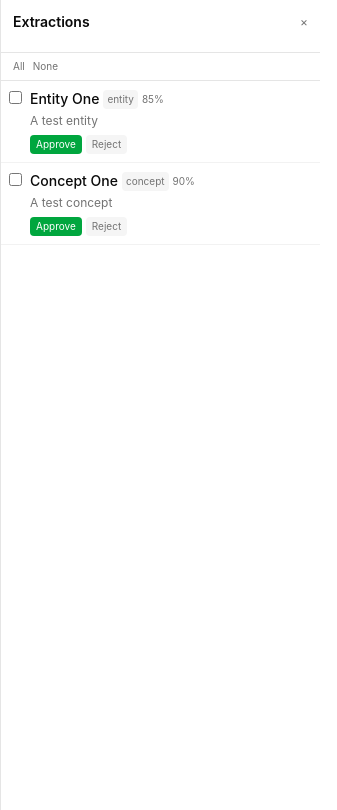
ExtractionReview › clears selection
Click the button "All": click(19, 66) [13, 59, 25, 74]
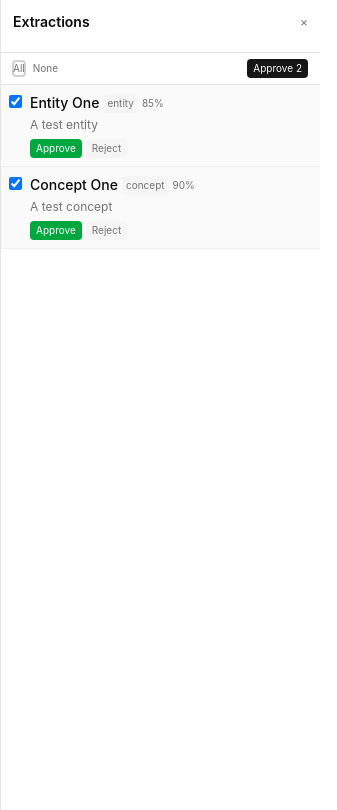
Click the button "None": click(45, 68) [33, 61, 58, 76]
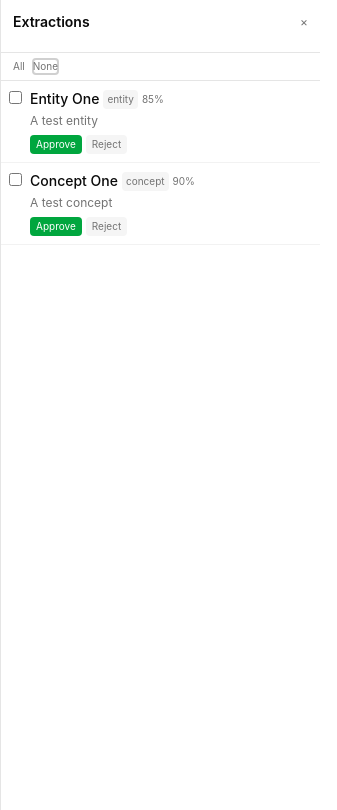
Expected: the checkbox next to "Entity One" is not checked, [9, 91, 22, 104]
Expected: the checkbox next to "Concept One" is not checked, [9, 173, 22, 186]
